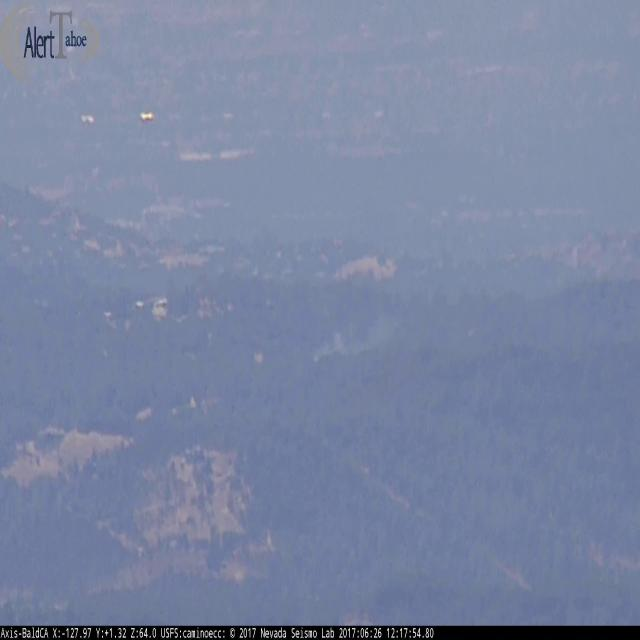smoke: (310, 304, 406, 372)
